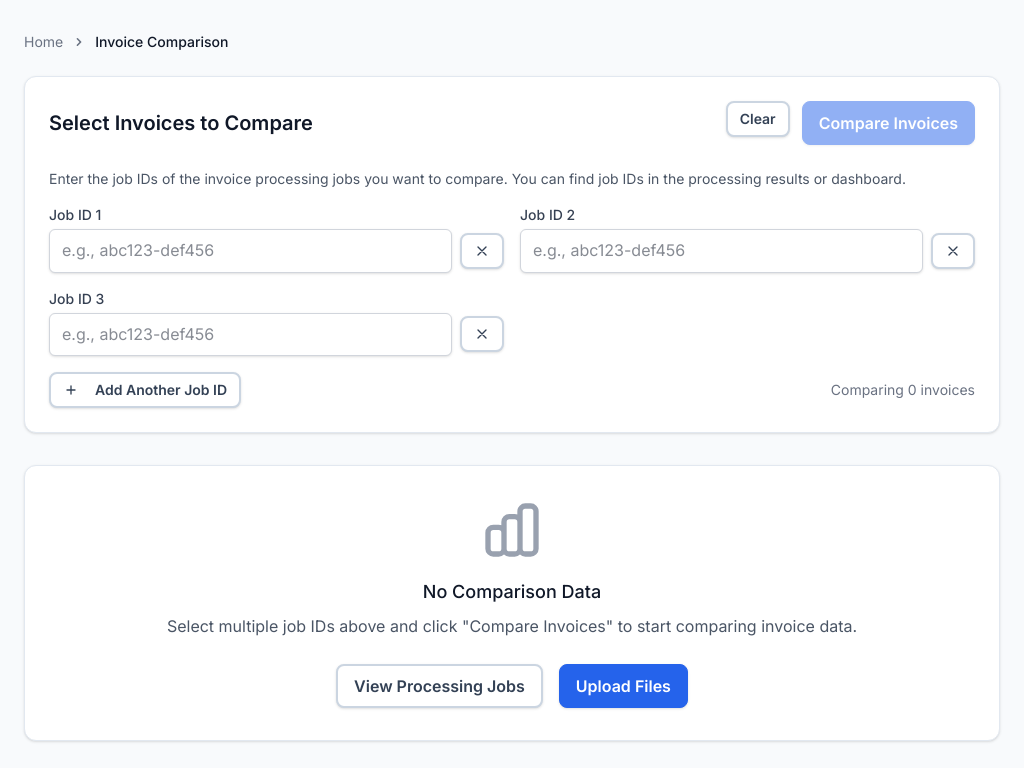
Test: ComparisonPage Integration › should validate minimum job IDs before comparison
Check: the button "Compare Invoices" is disabled, box [802,101,975,145]
Enter one job ID
Type "job1" into the field labelled "Job ID 1" at (250, 251), box [49,229,452,273]
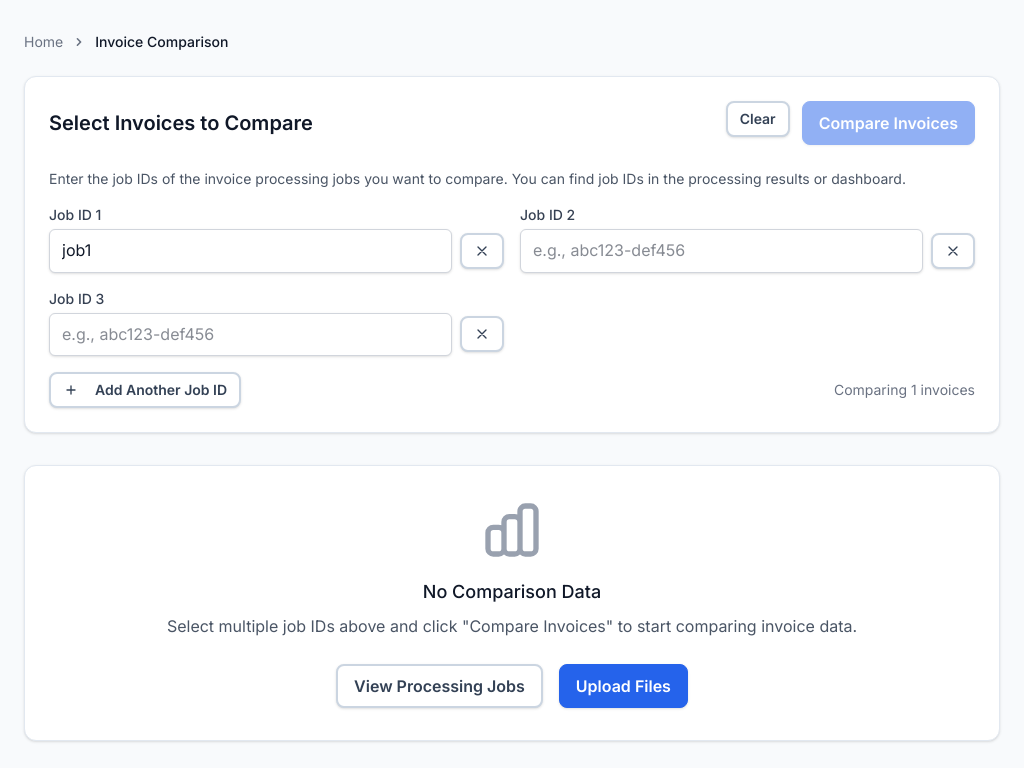
Check: the button "Compare Invoices" is disabled, box [802,101,975,145]
Enter second job ID
Type "job2" into the field labelled "Job ID 2" at (722, 251), box [520,229,923,273]
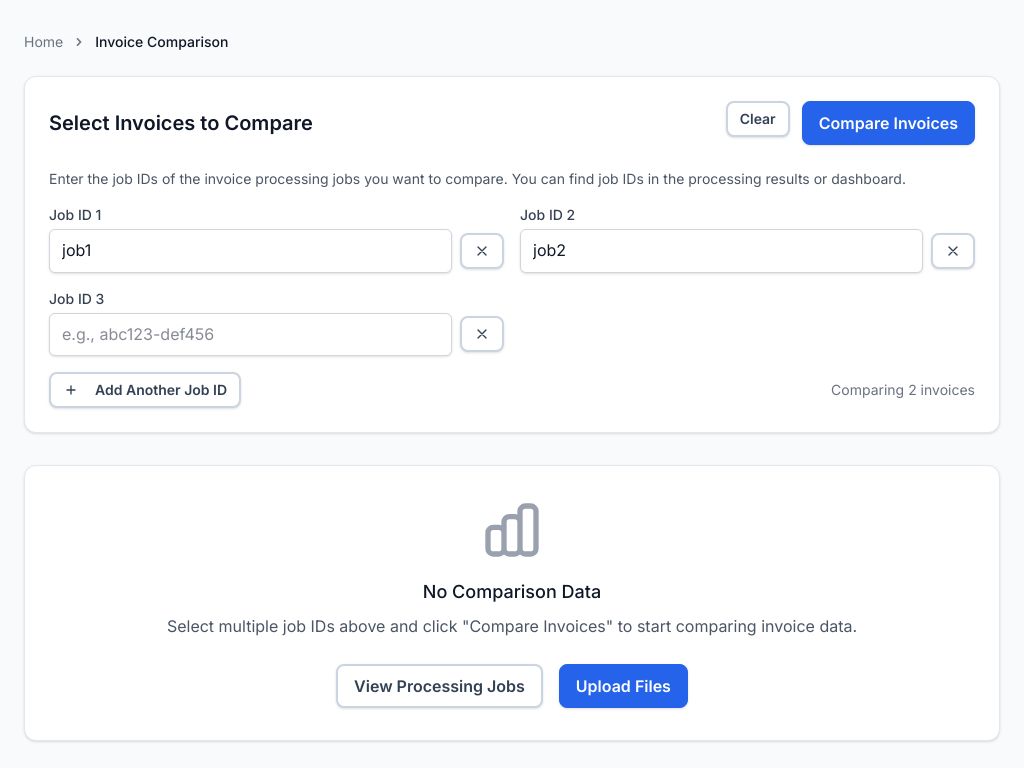
Check: the button "Compare Invoices" is enabled, box [802,101,975,145]
